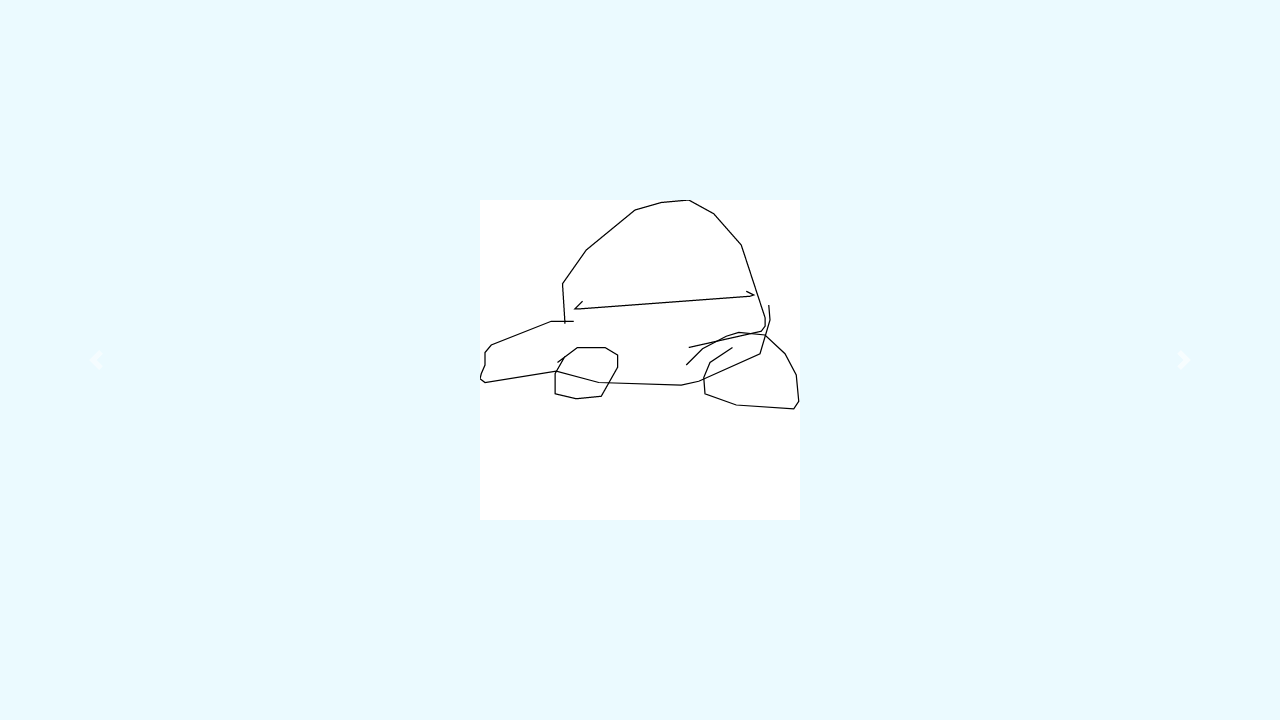car: (476, 197, 802, 419)
